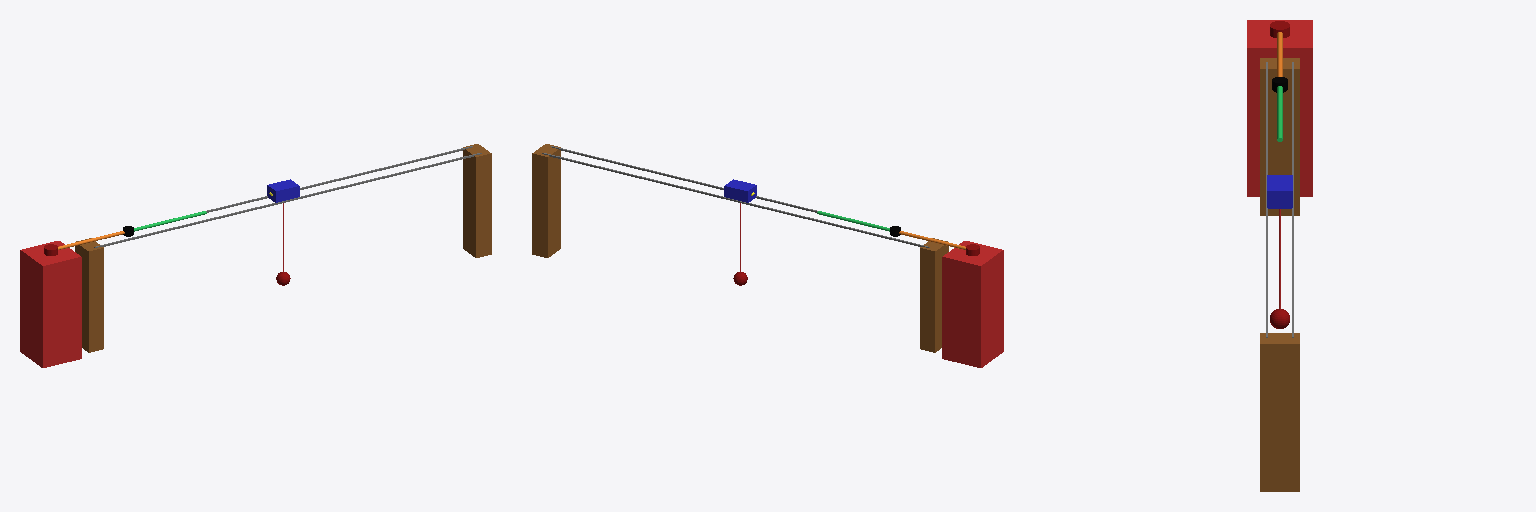
URDF robot description (cart_pendulum_2dof):
<?xml version="1.0"?>
<robot name="cart_pendulum_2dof">
  
  <!-- ============================================ -->
  <!-- WORLD/BASE LINK (Fixed reference frame)      -->
  <!-- ============================================ -->
  <link name="world"/>
  
  <!-- ============================================ -->
  <!-- RAILS (Fixed beams along X-axis)             -->
  <!-- ============================================ -->
  <!-- Rear rail aligned with back edge of cart -->
  <joint name="rail_rear_joint" type="fixed">
    <parent link="world"/>
    <child link="rail_rear"/>
    <origin xyz="0 -0.1 1.25" rpy="0 0 0"/>  <!-- On top of support boxes -->
  </joint>
  
  <link name="rail_rear">
    <visual>
      <geometry>
        <box size="5.0 0.02 0.02"/>  <!-- Thin beam along X-axis -->
      </geometry>
      <material name="gray">
        <color rgba="0.5 0.5 0.5 1"/>
      </material>
    </visual>
    <collision>
      <geometry>
        <box size="5.0 0.02 0.02"/>
      </geometry>
    </collision>
    <inertial>
      <mass value="50.0"/>  <!-- Heavy rail, won't move -->
      <origin xyz="0 0 0" rpy="0 0 0"/>
      <inertia ixx="0.02" ixy="0" ixz="0" iyy="20.0" iyz="0" izz="20.0"/>
    </inertial>
  </link>
  
  <!-- Front rail aligned with front edge of cart -->
  <joint name="rail_front_joint" type="fixed">
    <parent link="world"/>
    <child link="rail_front"/>
    <origin xyz="0 0.1 1.25" rpy="0 0 0"/>  <!-- On top of support boxes -->
  </joint>
  
  <link name="rail_front">
    <visual>
      <geometry>
        <box size="5.0 0.02 0.02"/>  <!-- Thin beam along X-axis -->
      </geometry>
      <material name="gray">
        <color rgba="0.5 0.5 0.5 1"/>
      </material>
    </visual>
    <collision>
      <geometry>
        <box size="5.0 0.02 0.02"/>
      </geometry>
    </collision>
    <inertial>
      <mass value="50.0"/>  <!-- Heavy rail, won't move -->
      <origin xyz="0 0 0" rpy="0 0 0"/>
      <inertia ixx="0.02" ixy="0" ixz="0" iyy="20.0" iyz="0" izz="20.0"/>
    </inertial>
  </link>
  
  <!-- ============================================ -->
  <!-- SUPPORT BOXES (Support rail ends)            -->
  <!-- ============================================ -->
  <!-- Left support box -->
  <joint name="support_left_joint" type="fixed">
    <parent link="world"/>
    <child link="support_left"/>
    <origin xyz="-2.5 0 0" rpy="0 0 0"/>  <!-- Bottom on ground -->
  </joint>
  
  <link name="support_left">
    <visual>
      <origin xyz="0 0 0.625" rpy="0 0 0"/>  <!-- Shift geometry up by half height -->
      <geometry>
        <box size="0.2 0.3 1.25"/>  <!-- Height 1.25m to reach rails -->
      </geometry>
      <material name="brown">
        <color rgba="0.6 0.4 0.2 1"/>
      </material>
    </visual>
    <collision>
      <origin xyz="0 0 0.625" rpy="0 0 0"/>  <!-- Shift geometry up by half height -->
      <geometry>
        <box size="0.2 0.3 1.25"/>
      </geometry>
    </collision>
    <inertial>
      <mass value="100.0"/>  <!-- Very heavy, won't move -->
      <origin xyz="0 0 0.625" rpy="0 0 0"/>  <!-- Center of mass at geometric center -->
      <inertia ixx="5.0" ixy="0" ixz="0" iyy="5.0" iyz="0" izz="0.5"/>
    </inertial>
  </link>
  
  <!-- Right support box -->
  <joint name="support_right_joint" type="fixed">
    <parent link="world"/>
    <child link="support_right"/>
    <origin xyz="2.5 0 0" rpy="0 0 0"/>  <!-- Bottom on ground -->
  </joint>
  
  <link name="support_right">
    <visual>
      <origin xyz="0 0 0.625" rpy="0 0 0"/>  <!-- Shift geometry up by half height -->
      <geometry>
        <box size="0.2 0.3 1.25"/>  <!-- Height 1.25m to reach rails -->
      </geometry>
      <material name="brown">
        <color rgba="0.6 0.4 0.2 1"/>
      </material>
    </visual>
    <collision>
      <origin xyz="0 0 0.625" rpy="0 0 0"/>  <!-- Shift geometry up by half height -->
      <geometry>
        <box size="0.2 0.3 1.25"/>
      </geometry>
    </collision>
    <inertial>
      <mass value="100.0"/>  <!-- Very heavy, won't move -->
      <origin xyz="0 0 0.625" rpy="0 0 0"/>  <!-- Center of mass at geometric center -->
      <inertia ixx="5.0" ixy="0" ixz="0" iyy="5.0" iyz="0" izz="0.5"/>
    </inertial>
  </link>
  
  <!-- ============================================ -->
  <!-- CART (Slides along X-axis on rails)          -->
  <!-- ============================================ -->
  <joint name="cart_slider" type="prismatic">
    <parent link="world"/>
    <child link="cart"/>
    <origin xyz="0 0 1.325" rpy="0 0 0"/>  <!-- On rails -->
    <axis xyz="1 0 0"/>  <!-- Slides along X-axis -->
    <limit lower="-2.0" upper="2.0" effort="100" velocity="10.0"/>
    <dynamics damping="0.5" friction="0.1"/>
  </joint>
  
  <link name="cart">
    <visual>
      <geometry>
        <box size="0.3 0.2 0.15"/>
      </geometry>
      <material name="blue">
        <color rgba="0.2 0.2 0.8 1"/>
      </material>
    </visual>
    <collision>
      <geometry>
        <box size="0.3 0.2 0.15"/>
      </geometry>
    </collision>
    <inertial>
      <mass value="5.0"/>
      <origin xyz="0 0 0" rpy="0 0 0"/>
      <inertia ixx="0.05" ixy="0" ixz="0" iyy="0.08" iyz="0" izz="0.06"/>
    </inertial>
  </link>
  
  <!-- ============================================ -->
  <!-- PENDULUM (Rotates in XZ plane, around Y)     -->
  <!-- ============================================ -->
  <joint name="pendulum_joint" type="continuous">
    <parent link="cart"/>
    <child link="pendulum"/>
    <origin xyz="0 0 -0.075" rpy="0 0 0"/>  <!-- Pivot at bottom of cart -->
    <axis xyz="0 1 0"/>  <!-- Rotates around Y-axis (XZ plane motion) -->
    <dynamics damping="0.5" friction="0.01"/>
  </joint>
  
  <!-- Massless rod connecting to point mass -->
  <link name="pendulum">
    <visual>
      <origin xyz="0 0 -0.5" rpy="0 0 0"/>
      <geometry>
        <cylinder radius="0.01" length="1.0"/>  <!-- Thin rod, 1m length -->
      </geometry>
      <material name="red">
        <color rgba="0.8 0.2 0.2 1"/>
      </material>
    </visual>
    <collision>
      <origin xyz="0 0 -0.5" rpy="0 0 0"/>
      <geometry>
        <cylinder radius="0.01" length="1.0"/>
      </geometry>
    </collision>
    <inertial>
      <mass value="0.01"/>  <!-- Nearly massless rod -->
      <origin xyz="0 0 -0.5" rpy="0 0 0"/>
      <inertia ixx="0.0001" ixy="0" ixz="0" iyy="0.0001" iyz="0" izz="0.00001"/>
    </inertial>
  </link>
  
  <!-- Point mass at tip -->
  <joint name="pendulum_mass_joint" type="fixed">
    <parent link="pendulum"/>
    <child link="pendulum_mass"/>
    <origin xyz="0 0 -1.0" rpy="0 0 0"/>
  </joint>
  
  <link name="pendulum_mass">
    <visual>
      <geometry>
        <sphere radius="0.08"/>  <!-- Larger sphere for point mass -->
      </geometry>
      <material name="dark_red">
        <color rgba="0.6 0.1 0.1 1"/>
      </material>
    </visual>
    <collision>
      <geometry>
        <sphere radius="0.08"/>
      </geometry>
    </collision>
    <inertial>
      <mass value="1.0"/>  <!-- All mass concentrated here -->
      <origin xyz="0 0 0" rpy="0 0 0"/>
      <inertia ixx="0.002" ixy="0" ixz="0" iyy="0.002" iyz="0" izz="0.002"/>
    </inertial>
  </link>
  
  <!-- ============================================ -->
  <!-- MANIPULATOR MOUNTING BOX                     -->
  <!-- ============================================ -->
  <!-- Mounting box for manipulator base - Ground mounted pillar -->
  <joint name="mount_box_joint" type="fixed">
    <parent link="world"/>
    <child link="mount_box"/>
    <origin xyz="-3.0 0 0" rpy="0 0 0"/>  <!-- Behind left support box on negative X-axis -->
  </joint>
  
  <link name="mount_box">
    <visual>
      <origin xyz="0 0 0.63125" rpy="0 0 0"/>  <!-- Shift geometry up by half height -->
      <geometry>
        <box size="0.5 0.5 1.2625"/>  <!-- Same height as support boxes -->
      </geometry>
      <material name="red">
        <color rgba="0.8 0.2 0.2 1"/>
      </material>
    </visual>
    <collision>
      <origin xyz="0 0 0.625" rpy="0 0 0"/>  <!-- Shift geometry up by half height -->
      <geometry>
        <box size="0.5 0.5 1.25"/>
      </geometry>
    </collision>
    <inertial>
      <mass value="100.0"/>  <!-- Heavy for stability -->
      <origin xyz="0 0 0.625" rpy="0 0 0"/>  <!-- Center of mass at geometric center -->
      <inertia ixx="5.0" ixy="0" ixz="0" iyy="5.0" iyz="0" izz="0.5"/>
    </inertial>
  </link>

  <!-- ============================================ -->
  <!-- MANIPULATOR MOUNTING CYLINDER                -->
  <!-- ============================================ -->
  <!-- Cylinder extending from top of mount box to cart height -->
  <joint name="mount_cylinder_joint" type="fixed">
    <parent link="mount_box"/>
    <child link="mount_cylinder"/>
    <origin xyz="0 0 1.2625" rpy="0 0 0"/>  <!-- At top of mount box (full height) -->
  </joint>
  
  <link name="mount_cylinder">
    <visual>
      <origin xyz="0 0 0.0375" rpy="0 0 0"/>  <!-- Center at half of cylinder height -->
      <geometry>
        <cylinder radius="0.08" length="0.075"/>  <!-- From box top (1.25m) to cart height (1.325m) -->
      </geometry>
      <material name="dark_red">
        <color rgba="0.6 0.1 0.1 1"/>
      </material>
    </visual>
    <collision>
      <origin xyz="0 0 0.0375" rpy="0 0 0"/>
      <geometry>
        <cylinder radius="0.08" length="0.075"/>
      </geometry>
    </collision>
    <inertial>
      <mass value="0.5"/>
      <origin xyz="0 0 0.0375" rpy="0 0 0"/>
      <inertia ixx="0.001" ixy="0" ixz="0" iyy="0.001" iyz="0" izz="0.001"/>
    </inertial>
  </link>

  <!-- ===================================================== -->
  <!-- Revolute joint at the middle of the mount_cylinder     -->
  <!-- Rotation axis: +Z of the joint frame                   -->
  <!-- ===================================================== -->

  <joint name="manipulator_base_yaw" type="revolute">
    <parent link="mount_cylinder"/>
    <child link="manipulator_link_1"/>
    <!-- Middle of mount_cylinder: length 0.075 => half is 0.0375 -->
    <origin xyz="0 0 0.0375" rpy="0 0 0"/>
    <axis xyz="0 0 1"/>
    <!-- Example limits; adjust as needed -->
    <limit lower="-3.14159" upper="3.14159" effort="50" velocity="2.0"/>
    <dynamics damping="0.1" friction="0.0"/>
  </joint>

  <!-- =================================== -->
  <!-- Manipulator link 1: cylinder along +X -->
  <!-- =================================== -->

  <link name="manipulator_link_1">
  <visual>
    <!-- Cylinder axis aligned with +X; centered at x = L/2 -->
    <origin xyz="0.5 0 0" rpy="0 1.57079632679 0"/>
    <geometry>
      <cylinder radius="0.02" length="1.0"/>
    </geometry>
    <material name="link1_orange">
      <color rgba="0.95 0.55 0.2 1.0"/>
    </material>
  </visual>

  <collision>
    <!-- Match visual geometry and pose -->
    <origin xyz="0.5 0 0" rpy="0 1.57079632679 0"/>
    <geometry>
      <cylinder radius="0.02" length="1.0"/>
    </geometry>
  </collision>

  <inertial>
    <!-- COM at geometric center; inertial frame aligned with cylinder axis -->
    <origin xyz="0.5 0 0" rpy="0 1.57079632679 0"/>
    <mass value="0.3"/>
    <!-- Keep your placeholder inertia values, but now they are at least referenced consistently -->
    <inertia ixx="0.002" ixy="0.0" ixz="0.0" iyy="0.002" iyz="0.0" izz="0.002"/>
  </inertial>
  </link>

  <!-- ============================== -->
  <!-- Joint at the end of link 1     -->
  <!-- Revolute yaw about +Z axis     -->
  <!-- ============================== -->
  <joint name="manipulator_joint_2_yaw" type="revolute">
    <parent link="manipulator_link_1"/>
    <child link="manipulator_link_2"/>
    <!-- end of link1: length = 1.0 along +X -->
    <origin xyz="1.0 0 0" rpy="0 0 0"/>
    <axis xyz="0 0 1"/>
    <limit lower="-3.14159" upper="3.14159" effort="50" velocity="2.0"/>
    <dynamics damping="0.1" friction="0.0"/>
  </joint>

  <!-- =============================== -->
  <!-- Visual element for Joint 2      -->
  <!-- (marker link attached with fixed joint) -->
  <!-- Small cylinder along +Z         -->
  <!-- =============================== -->
  <link name="joint2_visual">
    <visual>
      <origin xyz="0 0 0" rpy="0 0 0"/>
      <geometry>
        <cylinder radius="0.06" length="0.08"/>
      </geometry>
      <material name="joint_marker_black">
        <color rgba="0.05 0.05 0.05 1.0"/>
      </material>
    </visual>
  </link>

  <!-- Attach the joint-2 visual marker at the SAME pose as manipulator_joint_2_yaw -->
  <joint name="joint2_visual_fixed" type="fixed">
    <parent link="manipulator_link_1"/>
    <child link="joint2_visual"/>
    <origin xyz="1.0 0 0" rpy="0 0 0"/>
  </joint>

  <!-- =================================== -->
  <!-- Manipulator link 2: cylinder along +X -->
  <!-- length = 1.0                         -->
  <!-- =================================== -->
  <link name="manipulator_link_2">
    <visual>
      <!-- center at x=L/2, rotate +Z -> +X -->
      <origin xyz="0.5 0 0" rpy="0 1.57079632679 0"/>
      <geometry>
        <cylinder radius="0.02" length="1.0"/>
      </geometry>
      <material name="link2_green">
        <color rgba="0.2 0.8 0.4 1.0"/>
      </material>
    </visual>

    <collision>
      <origin xyz="0.5 0 0" rpy="0 1.57079632679 0"/>
      <geometry>
        <cylinder radius="0.02" length="1.0"/>
      </geometry>
    </collision>

    <inertial>
      <origin xyz="0.5 0 0" rpy="0 1.57079632679 0"/>
      <mass value="0.3"/>
      <inertia ixx="0.002" ixy="0" ixz="0" iyy="0.002" iyz="0" izz="0.002"/>
    </inertial>
  </link>

  <!-- ============================= -->
  <!-- CONNECTOR FRAMES (TREE-SAFE)  -->
  <!-- These will be used in Isaac   -->
  <!-- to add a passive revolute     -->
  <!-- joint between them.           -->
  <!-- ============================= -->

  <!-- Cart crank pin frame attached to cart -->
  <joint name="cart_pin_joint" type="fixed">
    <parent link="cart"/>
    <child link="cart_pin"/>
    <origin xyz="-0.15 0 0" rpy="1.57 0 0"/>
  </joint>
  
  <link name="cart_pin">
    <visual>
      <origin xyz="0 0 0" rpy="0 0 0"/>
      <geometry>
        <cylinder radius="0.015" length="0.06"/>
      </geometry>
      <material name="pin_yellow">
        <color rgba="0.95 0.9 0.2 1.0"/>
      </material>
    </visual>

    <!-- Inertial is still recommended so PhysX treats it cleanly -->
    <inertial>
      <mass value="0.01"/>
      <origin xyz="0 0 0" rpy="0 0 0"/>
      <inertia ixx="1e-6" ixy="0" ixz="0" iyy="1e-6" iyz="0" izz="1e-6"/>
    </inertial>
  </link>

  <!-- End-effector frame at tip of manipulator_link_2 -->
  <link name="manipulator_ee"/>
  <joint name="manipulator_ee_fixed" type="fixed">
    <parent link="manipulator_link_2"/>
    <child link="manipulator_ee"/>
    <origin xyz="1.0 0 0" rpy="0 0 0"/>
  </joint>

  <!-- NOTE:
       The passive revolute joint that closes the loop:
         cart_pin  <-->  manipulator_ee
       is NOT included here because URDF must remain a tree.
       Add that revolute joint as a PhysX Revolute Joint in Isaac Sim.
  -->

</robot>

--- What the picture shows (computed from the rendered views, not written in the file) ---
The picture shows the robot from 3 angles, left to right: view 1: azimuth 30°, elevation 25°; view 2: azimuth 150°, elevation 25°; view 3: azimuth 270°, elevation 25°; orthographic projection.
Model cart_pendulum_2dof with 15 links and 14 joints (2 revolute, 1 continuous, 1 prismatic, 10 fixed), rooted at world, posed all joints at 0.
Visible links, largest first — view 1: mount_box, support_right, support_left, rail_rear, rail_front, cart; view 2: mount_box, support_right, support_left, rail_front, rail_rear, cart; view 3: support_right, mount_box, support_left, cart.
Link boxes in pixels (box(x1,y1,x2,y2)): mount_box: box(20, 241, 81, 367); support_right: box(463, 144, 491, 257); support_left: box(75, 238, 103, 352); rail_rear: box(94, 153, 481, 247); rail_front: box(206, 146, 472, 212); cart: box(267, 179, 299, 202); mount_box: box(942, 241, 1003, 367); support_right: box(532, 144, 560, 257); support_left: box(920, 238, 948, 352); rail_front: box(542, 153, 929, 247); rail_rear: box(551, 146, 817, 212); cart: box(724, 179, 756, 202); support_right: box(1260, 333, 1299, 491); mount_box: box(1247, 20, 1312, 196); support_left: box(1260, 58, 1299, 215); cart: box(1267, 175, 1292, 208).
Bounding box of the posed robot: 5.85 × 0.5 × 1.4 m (x, y, z).
Geometry: primitives only (box / cylinder / sphere), no mesh files.